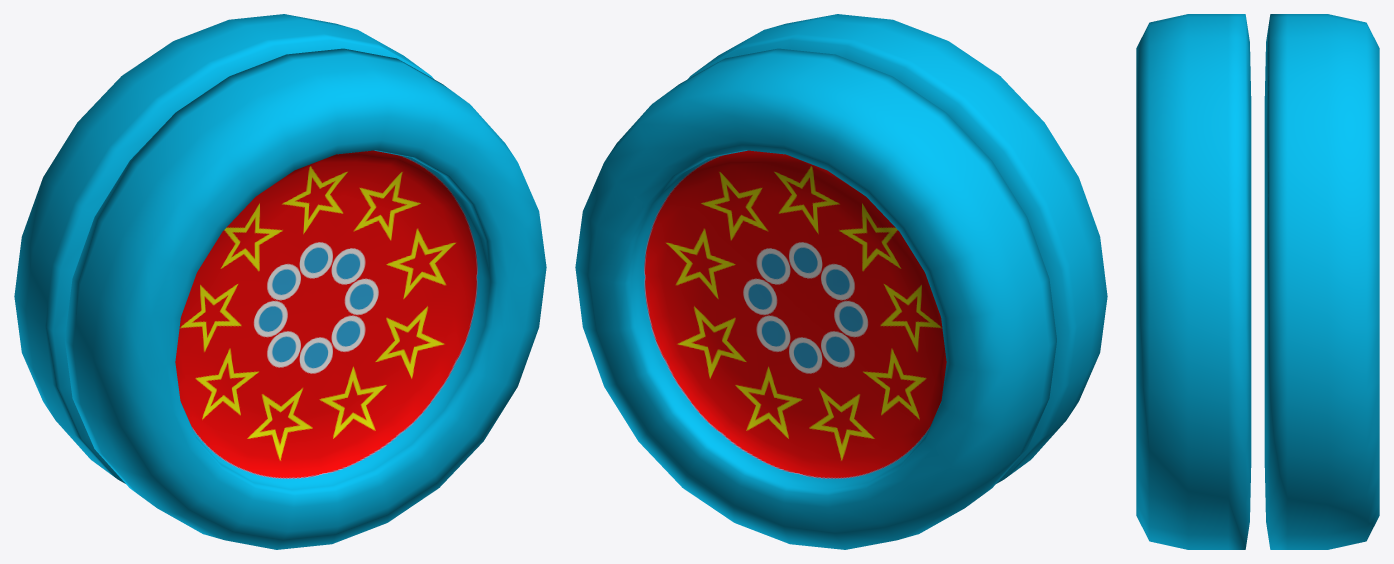
File: YoYo.fbx
3 renders of one model, left to right at view 1: azimuth 30°, elevation 25°; view 2: azimuth 150°, elevation 25°; view 3: azimuth 270°, elevation 25°, orthographic. The views are drawn at different scales.
Visible parts, largest first — view 1: pCylinder4; view 2: pCylinder4; view 3: pCylinder4.
Part boxes in pixels (left/top/right/bottom): pCylinder4: left=14, top=14, right=546, bottom=549; pCylinder4: left=575, top=14, right=1107, bottom=549; pCylinder4: left=1136, top=14, right=1379, bottom=549.
Bounding box in the file's own units: 0.0193 × 0.0193 × 0.00873.
1 material, 1 textured.
